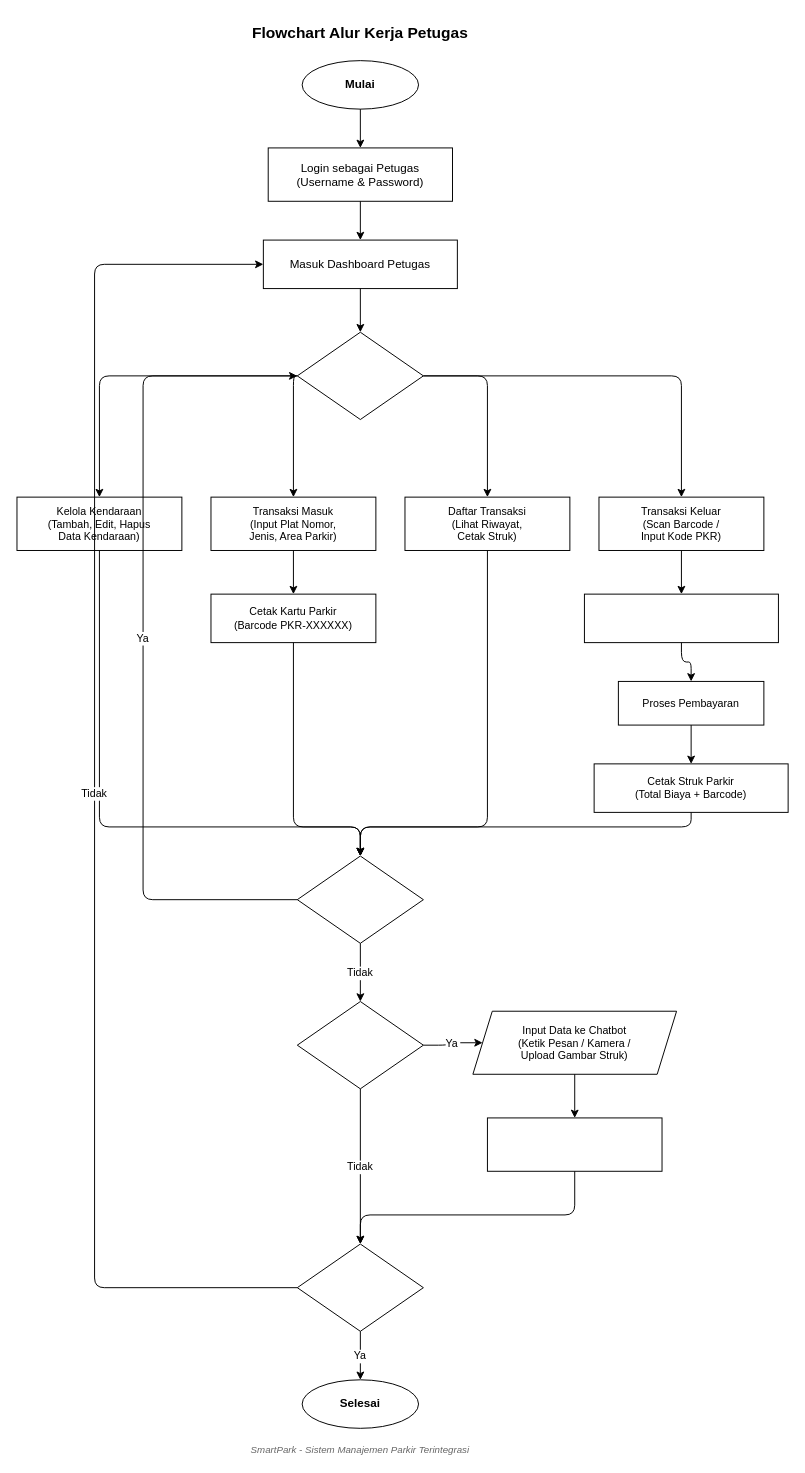
Image size: 805x1473. Some labels were removed from this diagram. Here are the shapes that lost their labels. From the top down, the centre of each, then its label:
the point at 359,375: Pilih Menu?
the point at 680,618: Hitung Biaya Parkir (Pembulatan ke atas per jam)
the point at 359,899: Pilih Menu Lain?
the point at 359,1045: Menggunakan AI Chatbot?
the point at 574,1144: AI Proses & Tampilkan Respon + Parking Card + Barcode
the point at 359,1287: Logout?
